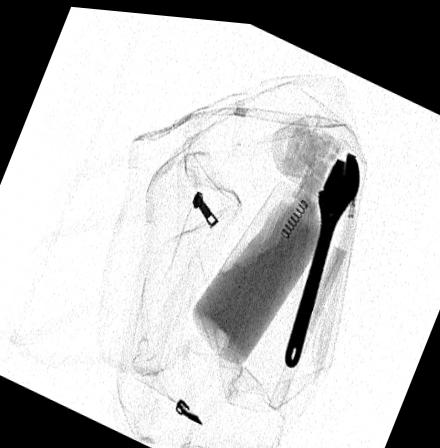Wrench: (282, 144, 360, 362)
